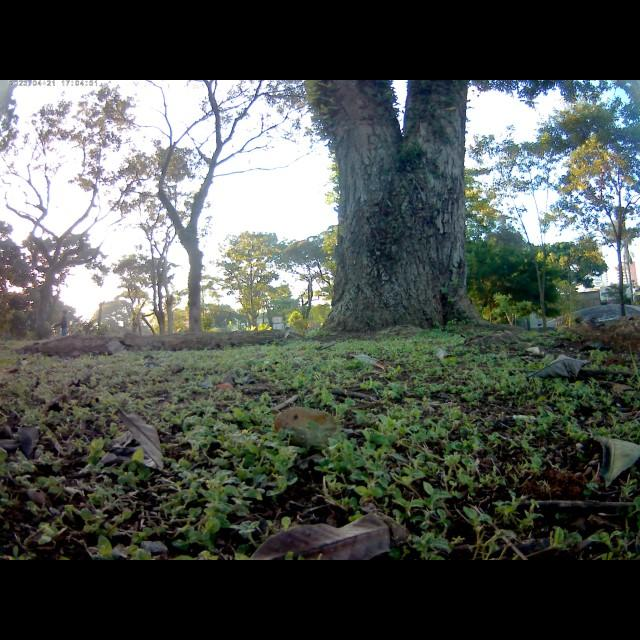arvore: (293, 80, 495, 340)
